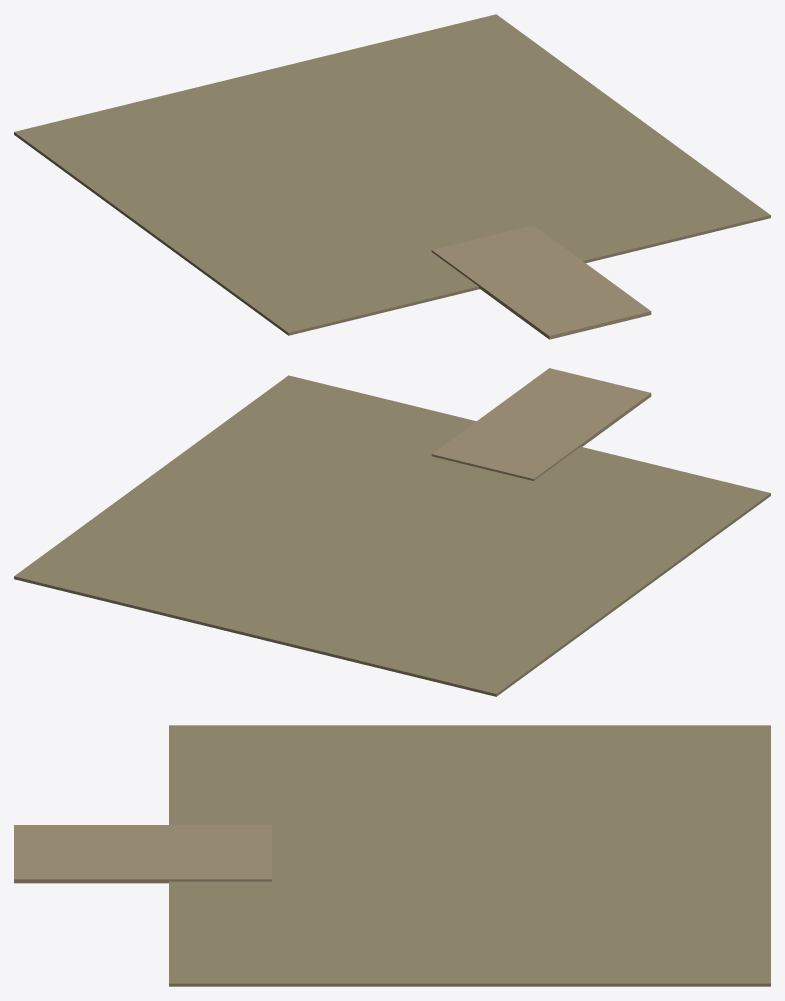
The model's file is plot-normal.glb.
3 views of the same model, one above another, from view 1: azimuth 30°, elevation 25°; view 2: azimuth 150°, elevation 25°; view 3: azimuth 270°, elevation 25° (orthographic). The views are drawn at different scales.
Parts seen in each view (by area): view 1: plot; view 2: plot; view 3: plot.
Part boxes in pixels (left/top/right/bottom): plot: left=14, top=14, right=770, bottom=339; plot: left=14, top=368, right=770, bottom=696; plot: left=14, top=725, right=770, bottom=986.
Size of the model in its own units: 7.1 by 0.069 by 8.8.
